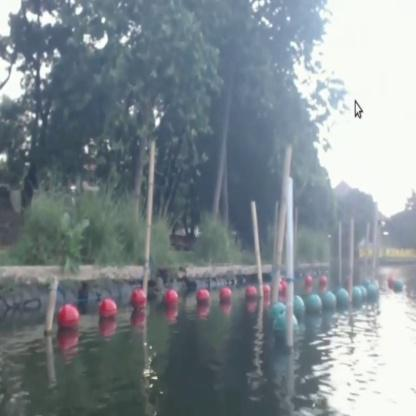green_buoy: (272, 305, 299, 337), (334, 288, 349, 314), (309, 296, 323, 318), (353, 282, 365, 305), (292, 296, 304, 318), (323, 294, 336, 314), (392, 280, 402, 294), (370, 282, 376, 300)
red_buoy: (58, 305, 78, 339), (99, 298, 115, 325), (165, 286, 178, 314), (132, 287, 145, 313), (220, 285, 232, 305), (198, 286, 209, 306), (247, 284, 256, 298), (318, 274, 326, 288), (263, 282, 269, 298), (306, 272, 312, 287)
